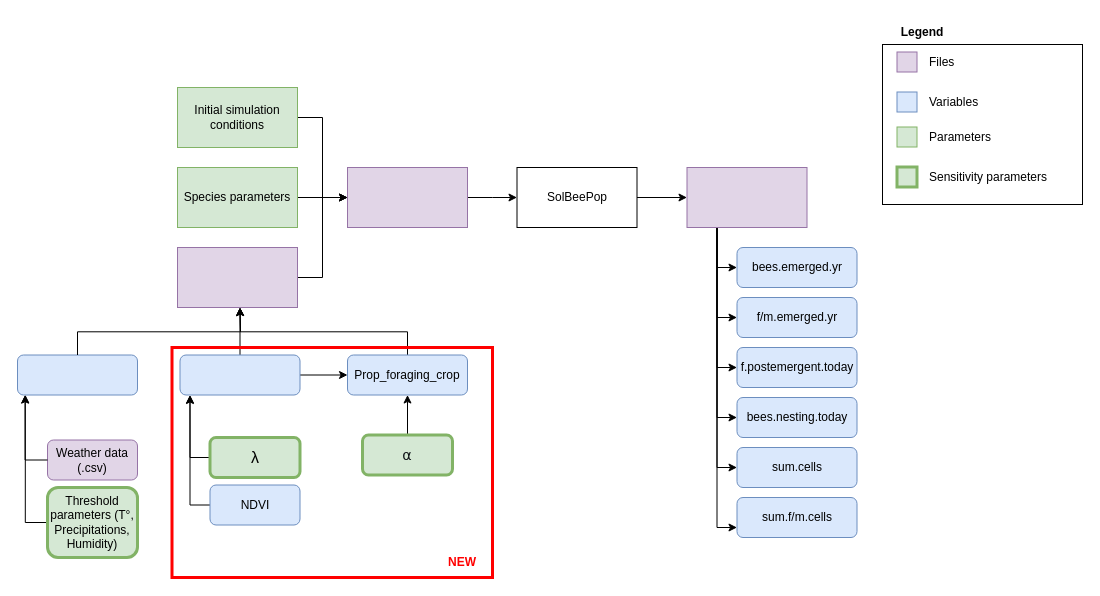
Some shapes in this 1100 by 596 pixel diagram are drawn without their labels. Here are the shapes that lost their labels. From the top down, the centre of each, then its label:
At point (407, 197): "Scenario file (.csv)".
At point (746, 197): "Output file (.csv)".
At point (237, 277): "Floral ressources file (.csv)".
At point (77, 374): "Prop_foraging_day".
At point (239, 374): "Quality_crop, Quality_nat".
